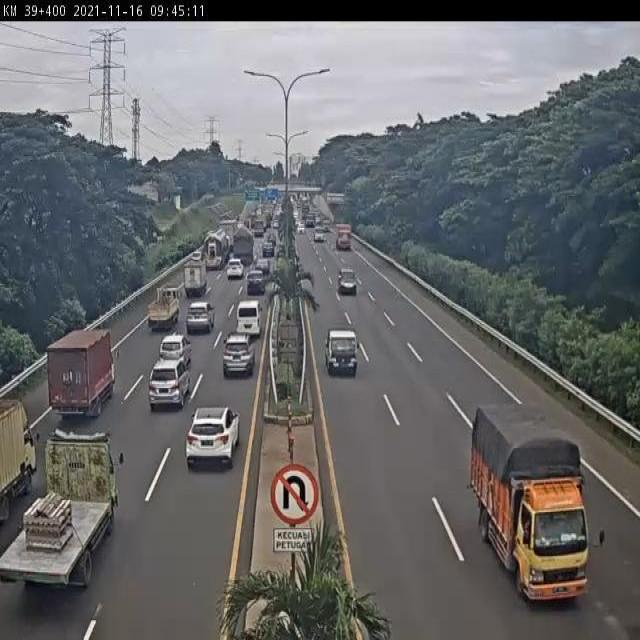car: (184, 405, 236, 467), (149, 358, 193, 411), (325, 329, 360, 375), (220, 339, 253, 384), (155, 337, 189, 371), (236, 302, 263, 342), (179, 309, 208, 343), (337, 268, 359, 295), (223, 257, 244, 283), (244, 275, 265, 300), (252, 260, 270, 280)
mid truck: (230, 228, 257, 271)
small truck: (47, 328, 119, 419), (145, 289, 181, 336), (178, 264, 203, 303)
truck-m-: (471, 406, 590, 602), (0, 431, 125, 588)
truck-xl-: (203, 230, 228, 270)
